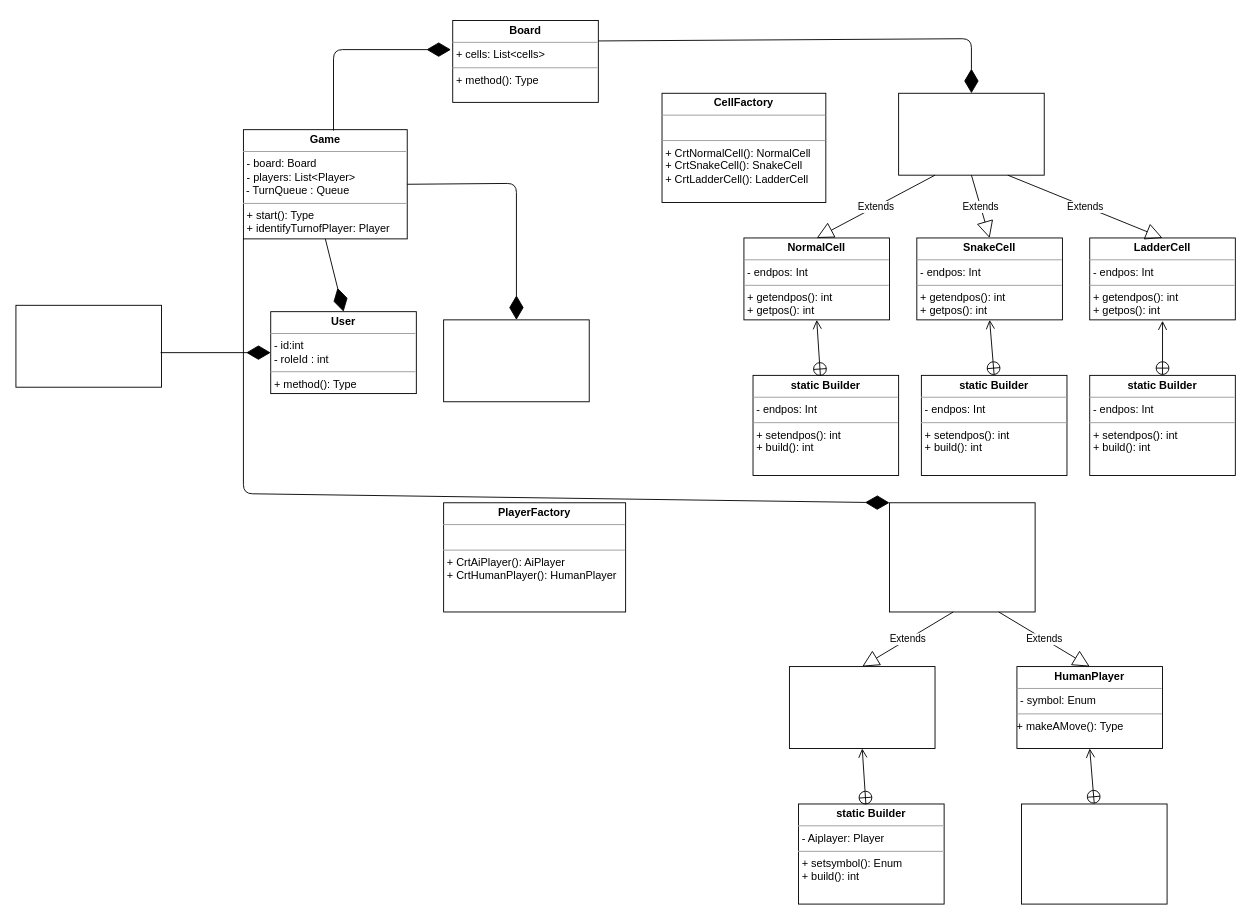
Image size: 1251x920. Some labels were removed from this diagram. The shapes that lost their labels are listed below. From the top down, each one's centre as x and y in pixels, then its label:
At pixel 971 133: "Cell - pos: int + getendpos(): Type".
At pixel 88 345: "Role - id: int + method(): Type".
At pixel 516 360: "Dice - MaxNos: int + genNbrs(): Int".
At pixel 962 557: "Player + cells: List<cells> + makeAMove(): Type".
At pixel 862 707: "AiPlayer - symbol: Enum + makeAMove(): Type".
At pixel 1094 853: "static Builder - HPlayer: Player + setsymbol(): Enum + build(): int".
